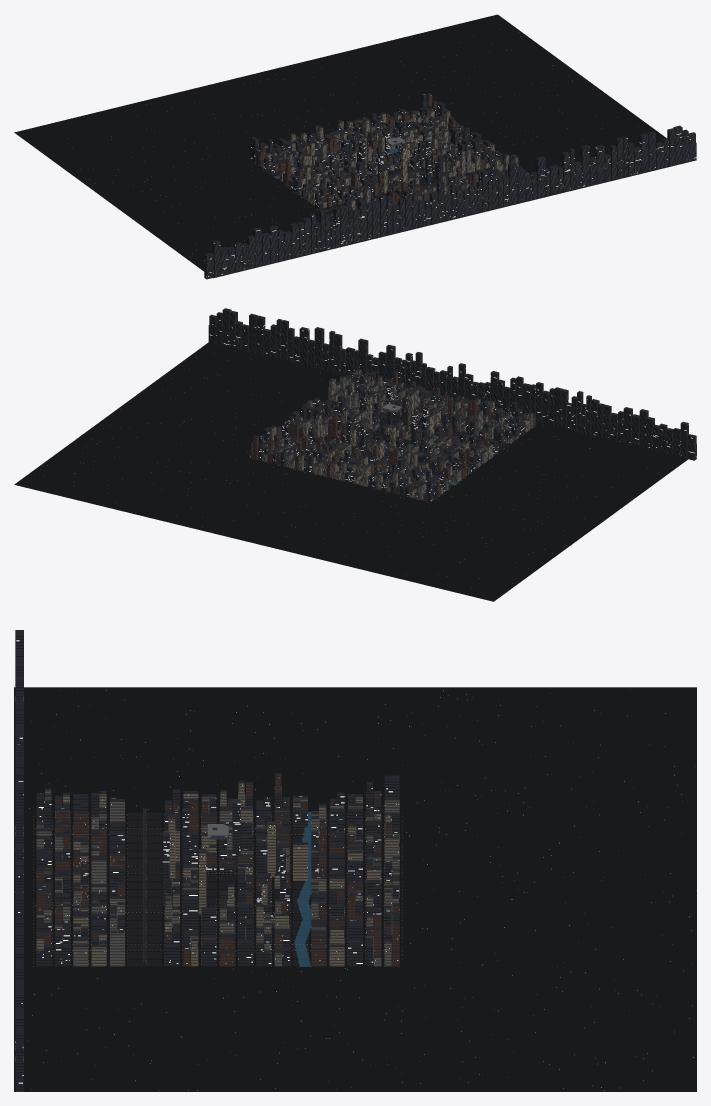
Rendered from DeathsGambitMaps_Agency.fbx.
The picture shows the model from 3 angles, top to bottom: view 1: azimuth 30°, elevation 25°; view 2: azimuth 150°, elevation 25°; view 3: azimuth 270°, elevation 25°; orthographic projection. The views are drawn at different scales.
Visible parts, largest first — view 1: Map_Agency_CoreDark_7, Map_Agency_CoreDark_16, Map_Agency_CoreDark_6, Map_Agency_CoreDark_13, Map_Agency_CoreDark_17, Map_Agency_CoreDark_10, Map_Agency_NightOffice_6, Map_Agency_NightOffice_11, Map_Agency_NightOffice_14, Map_Agency_CoreDark_14, Map_Agency_CoreDark_8, Map_Agency_CoreDark_21 (+32 smaller); view 2: Map_Agency_CoreDark_7, Map_Agency_CoreDark_13, Map_Agency_CoreDark_16, Map_Agency_CoreDark_6, Map_Agency_CoreDark_17, Map_Agency_CoreDark_10, Map_Agency_CoreDark_15, Map_Agency_CoreDark_5, Map_Agency_NightOffice_12, Map_Agency_NightOffice_9, Map_Agency_NightOffice_7, Map_Agency_NightOffice_15 (+36 smaller); view 3: Map_Agency_CoreDark_13, Map_Agency_CoreDark_7, Map_Agency_CoreDark_6, Map_Agency_CoreDark_5, Map_Agency_CoreDark_16, Map_Agency_CoreDark_17, Map_Agency_CoreDark_10, Map_Agency_CoreDark_15, Map_Agency_CoreDark_14, Map_Agency_CoreDark_21, Map_Agency_CoreDark_8, Map_Agency_CoreDark_2 (+40 smaller).
Boxes of the visible parts, x1=… form: Map_Agency_CoreDark_7: x1=384, y1=42, x2=554, y2=110; Map_Agency_CoreDark_16: x1=150, y1=159, x2=309, y2=227; Map_Agency_CoreDark_6: x1=449, y1=90, x2=594, y2=156; Map_Agency_CoreDark_13: x1=185, y1=91, x2=347, y2=160; Map_Agency_CoreDark_17: x1=100, y1=119, x2=241, y2=181; Map_Agency_CoreDark_10: x1=299, y1=70, x2=421, y2=125; Map_Agency_NightOffice_6: x1=550, y1=133, x2=655, y2=195; Map_Agency_NightOffice_11: x1=353, y1=182, x2=456, y2=243; Map_Agency_NightOffice_14: x1=255, y1=207, x2=353, y2=267; Map_Agency_CoreDark_14: x1=156, y1=70, x2=298, y2=118; Map_Agency_CoreDark_8: x1=356, y1=21, x2=497, y2=70; Map_Agency_CoreDark_21: x1=43, y1=139, x2=156, y2=195; Map_Agency_CoreDark_7: x1=71, y1=429, x2=240, y2=498; Map_Agency_CoreDark_13: x1=269, y1=477, x2=437, y2=546; Map_Agency_CoreDark_16: x1=431, y1=459, x2=589, y2=526; Map_Agency_CoreDark_6: x1=149, y1=390, x2=300, y2=457; Map_Agency_CoreDark_17: x1=381, y1=505, x2=522, y2=566; Map_Agency_CoreDark_10: x1=184, y1=456, x2=324, y2=518; Map_Agency_CoreDark_15: x1=492, y1=425, x2=635, y2=482; Map_Agency_CoreDark_5: x1=210, y1=349, x2=345, y2=411; Map_Agency_NightOffice_12: x1=418, y1=365, x2=548, y2=455; Map_Agency_NightOffice_9: x1=302, y1=340, x2=446, y2=433; Map_Agency_NightOffice_7: x1=249, y1=315, x2=353, y2=375; Map_Agency_NightOffice_15: x1=549, y1=389, x2=646, y2=448; Map_Agency_CoreDark_13: x1=401, y1=806, x2=598, y2=901; Map_Agency_CoreDark_7: x1=401, y1=973, x2=598, y2=1067; Map_Agency_CoreDark_6: x1=192, y1=967, x2=401, y2=1050; Map_Agency_CoreDark_5: x1=14, y1=967, x2=191, y2=1067; Map_Agency_CoreDark_16: x1=192, y1=729, x2=401, y2=811; Map_Agency_CoreDark_17: x1=401, y1=735, x2=598, y2=806; Map_Agency_CoreDark_10: x1=401, y1=901, x2=598, y2=972; Map_Agency_CoreDark_15: x1=14, y1=729, x2=191, y2=811; Map_Agency_CoreDark_14: x1=598, y1=806, x2=696, y2=901; Map_Agency_CoreDark_21: x1=401, y1=687, x2=598, y2=734; Map_Agency_CoreDark_8: x1=598, y1=973, x2=696, y2=1067; Map_Agency_CoreDark_2: x1=192, y1=1050, x2=401, y2=1091.
Bounding box in the file's own units: 6887 × 560 × 4851.
Materials: 84 (55 with a texture image).
